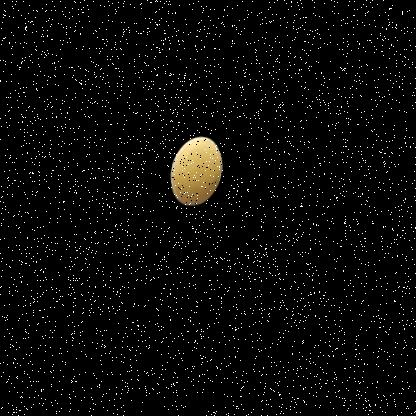rabeparzole20: (158, 127, 237, 225)
